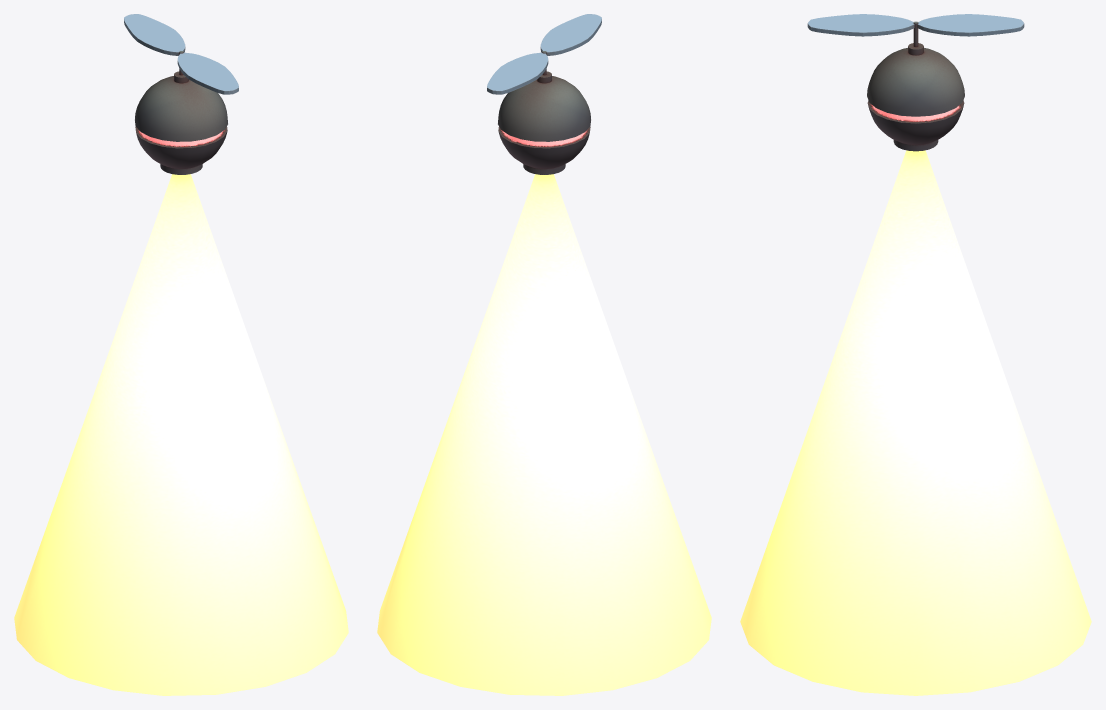
File: Enemy2.glb
3 renders of one model, left to right at view 1: azimuth 30°, elevation 25°; view 2: azimuth 150°, elevation 25°; view 3: azimuth 270°, elevation 25°, orthographic. The views are drawn at different scales.
Visible parts, largest first — view 1: Enemy1; view 2: Enemy1; view 3: Enemy1.
Part boxes in pixels (box(x1,y1,x2,y2)): Enemy1: box(14, 14, 348, 695); Enemy1: box(377, 14, 711, 695); Enemy1: box(740, 14, 1091, 695).
Size of the model in its own units: 3.27 by 6.16 by 3.27.
1 material, 1 textured.
